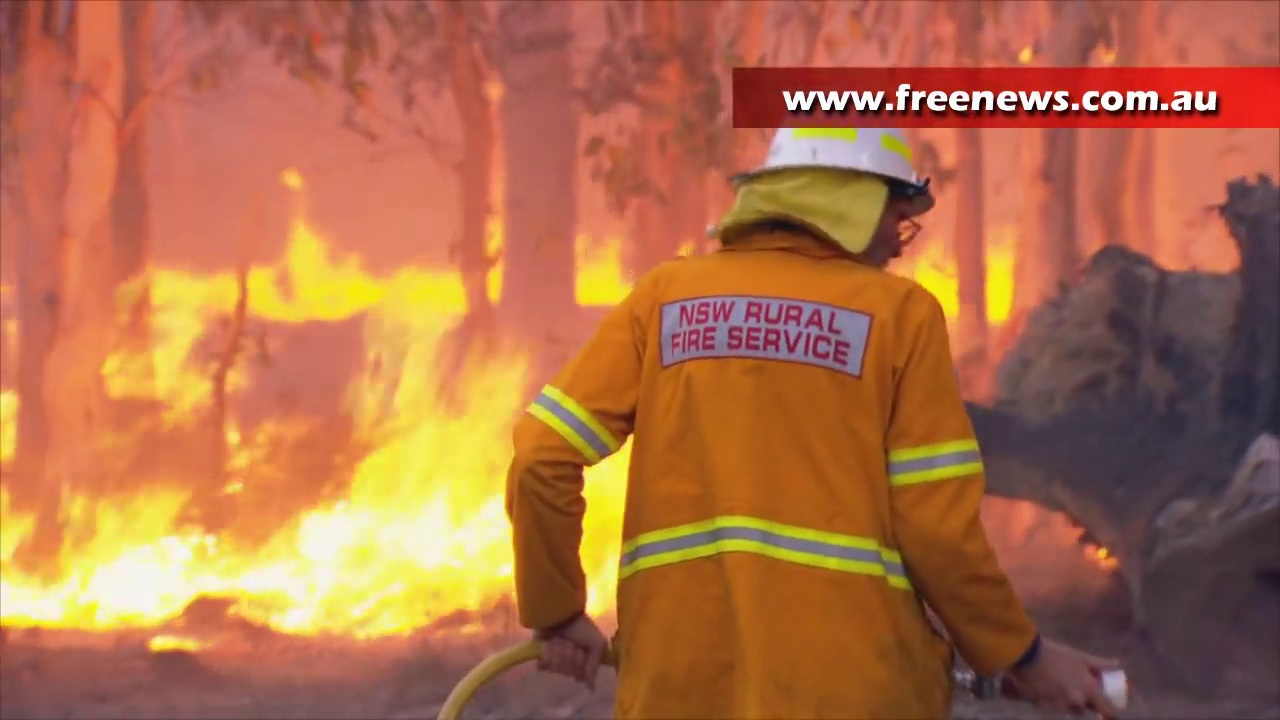fire: (1, 240, 514, 634), (584, 463, 617, 619)
